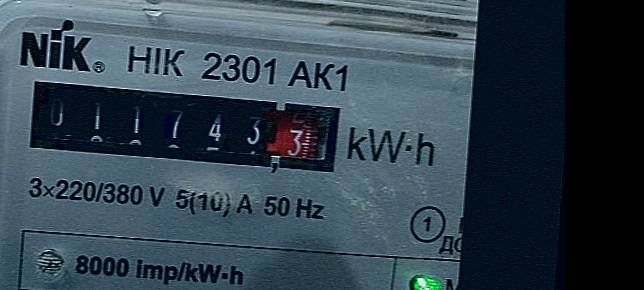0: (45, 91, 66, 128)
1: (128, 98, 145, 133), (91, 96, 103, 129)
3: (241, 110, 263, 146), (284, 125, 305, 159)
4: (204, 107, 224, 142)
7: (165, 103, 186, 138)
screen: (13, 66, 353, 184)
